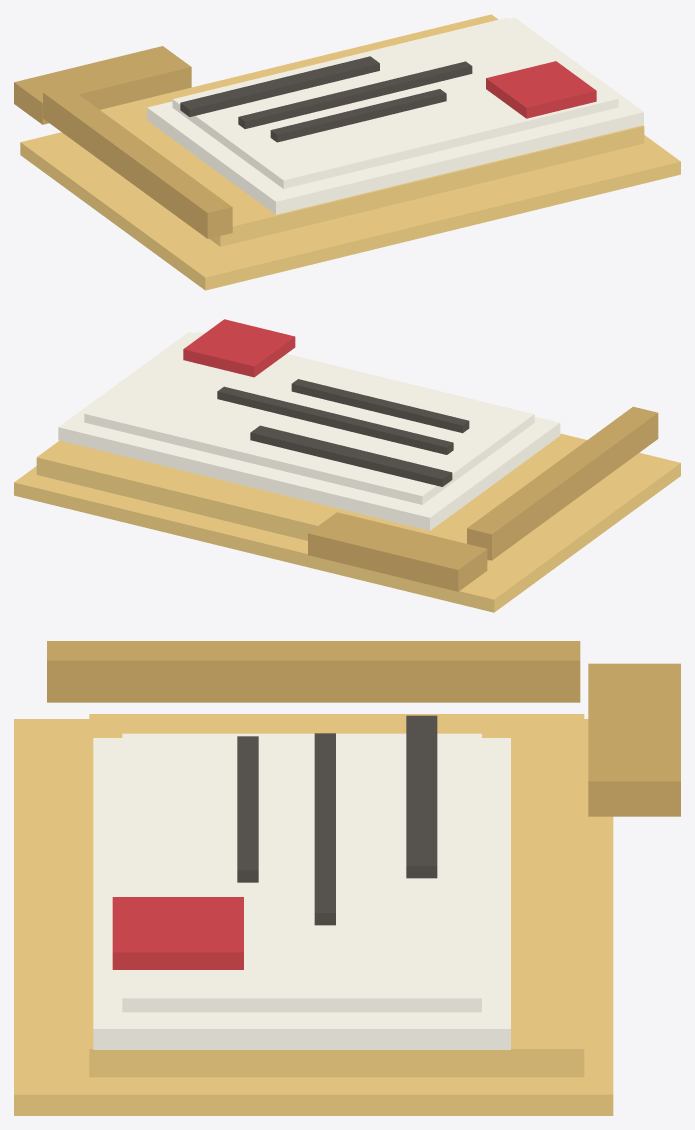
The model's file is props-case-file.gltf.
The picture shows the model from 3 angles, top to bottom: view 1: azimuth 30°, elevation 25°; view 2: azimuth 150°, elevation 25°; view 3: azimuth 270°, elevation 25°; orthographic projection. The views are drawn at different scales.
Parts seen in each view (by area): view 1: manila-folder-base, top-document-sheet, folder-cover-raised, paper-stack-visible-edge, binding-band, folder-tab, red-case-seal, case-title-bar, evidence-line-one, evidence-line-two; view 2: top-document-sheet, manila-folder-base, folder-cover-raised, paper-stack-visible-edge, binding-band, folder-tab, red-case-seal, case-title-bar, evidence-line-one, evidence-line-two; view 3: top-document-sheet, manila-folder-base, folder-cover-raised, binding-band, paper-stack-visible-edge, folder-tab, red-case-seal, case-title-bar, evidence-line-one, evidence-line-two.
Part boxes in pixels (x1=…): manila-folder-base: x1=20, y1=132, x2=680, y2=290; top-document-sheet: x1=172, y1=17, x2=618, y2=188; folder-cover-raised: x1=100, y1=14, x2=644, y2=246; paper-stack-visible-edge: x1=147, y1=18, x2=643, y2=214; binding-band: x1=43, y1=86, x2=232, y2=238; folder-tab: x1=14, y1=46, x2=191, y2=124; red-case-seal: x1=486, y1=61, x2=596, y2=118; case-title-bar: x1=180, y1=56, x2=379, y2=116; evidence-line-one: x1=238, y1=61, x2=472, y2=128; evidence-line-two: x1=270, y1=89, x2=446, y2=142; top-document-sheet: x1=84, y1=331, x2=534, y2=504; manila-folder-base: x1=14, y1=433, x2=680, y2=612; folder-cover-raised: x1=36, y1=434, x2=585, y2=562; paper-stack-visible-edge: x1=58, y1=332, x2=560, y2=530; binding-band: x1=467, y1=406, x2=658, y2=560; folder-tab: x1=308, y1=512, x2=487, y2=591; red-case-seal: x1=183, y1=319, x2=295, y2=377; case-title-bar: x1=250, y1=425, x2=452, y2=486; evidence-line-one: x1=217, y1=386, x2=453, y2=454; evidence-line-two: x1=291, y1=379, x2=469, y2=433; top-document-sheet: x1=122, y1=733, x2=481, y2=1012; manila-folder-base: x1=14, y1=719, x2=613, y2=1115; folder-cover-raised: x1=89, y1=714, x2=584, y2=1077; binding-band: x1=47, y1=641, x2=580, y2=702; paper-stack-visible-edge: x1=93, y1=738, x2=510, y2=1049; folder-tab: x1=588, y1=663, x2=680, y2=816; red-case-seal: x1=112, y1=897, x2=243, y2=969; case-title-bar: x1=406, y1=715, x2=437, y2=878; evidence-line-one: x1=314, y1=733, x2=335, y2=925; evidence-line-two: x1=237, y1=736, x2=258, y2=882.
Size of the model in its own units: 2.3 by 0.345 by 1.73.
